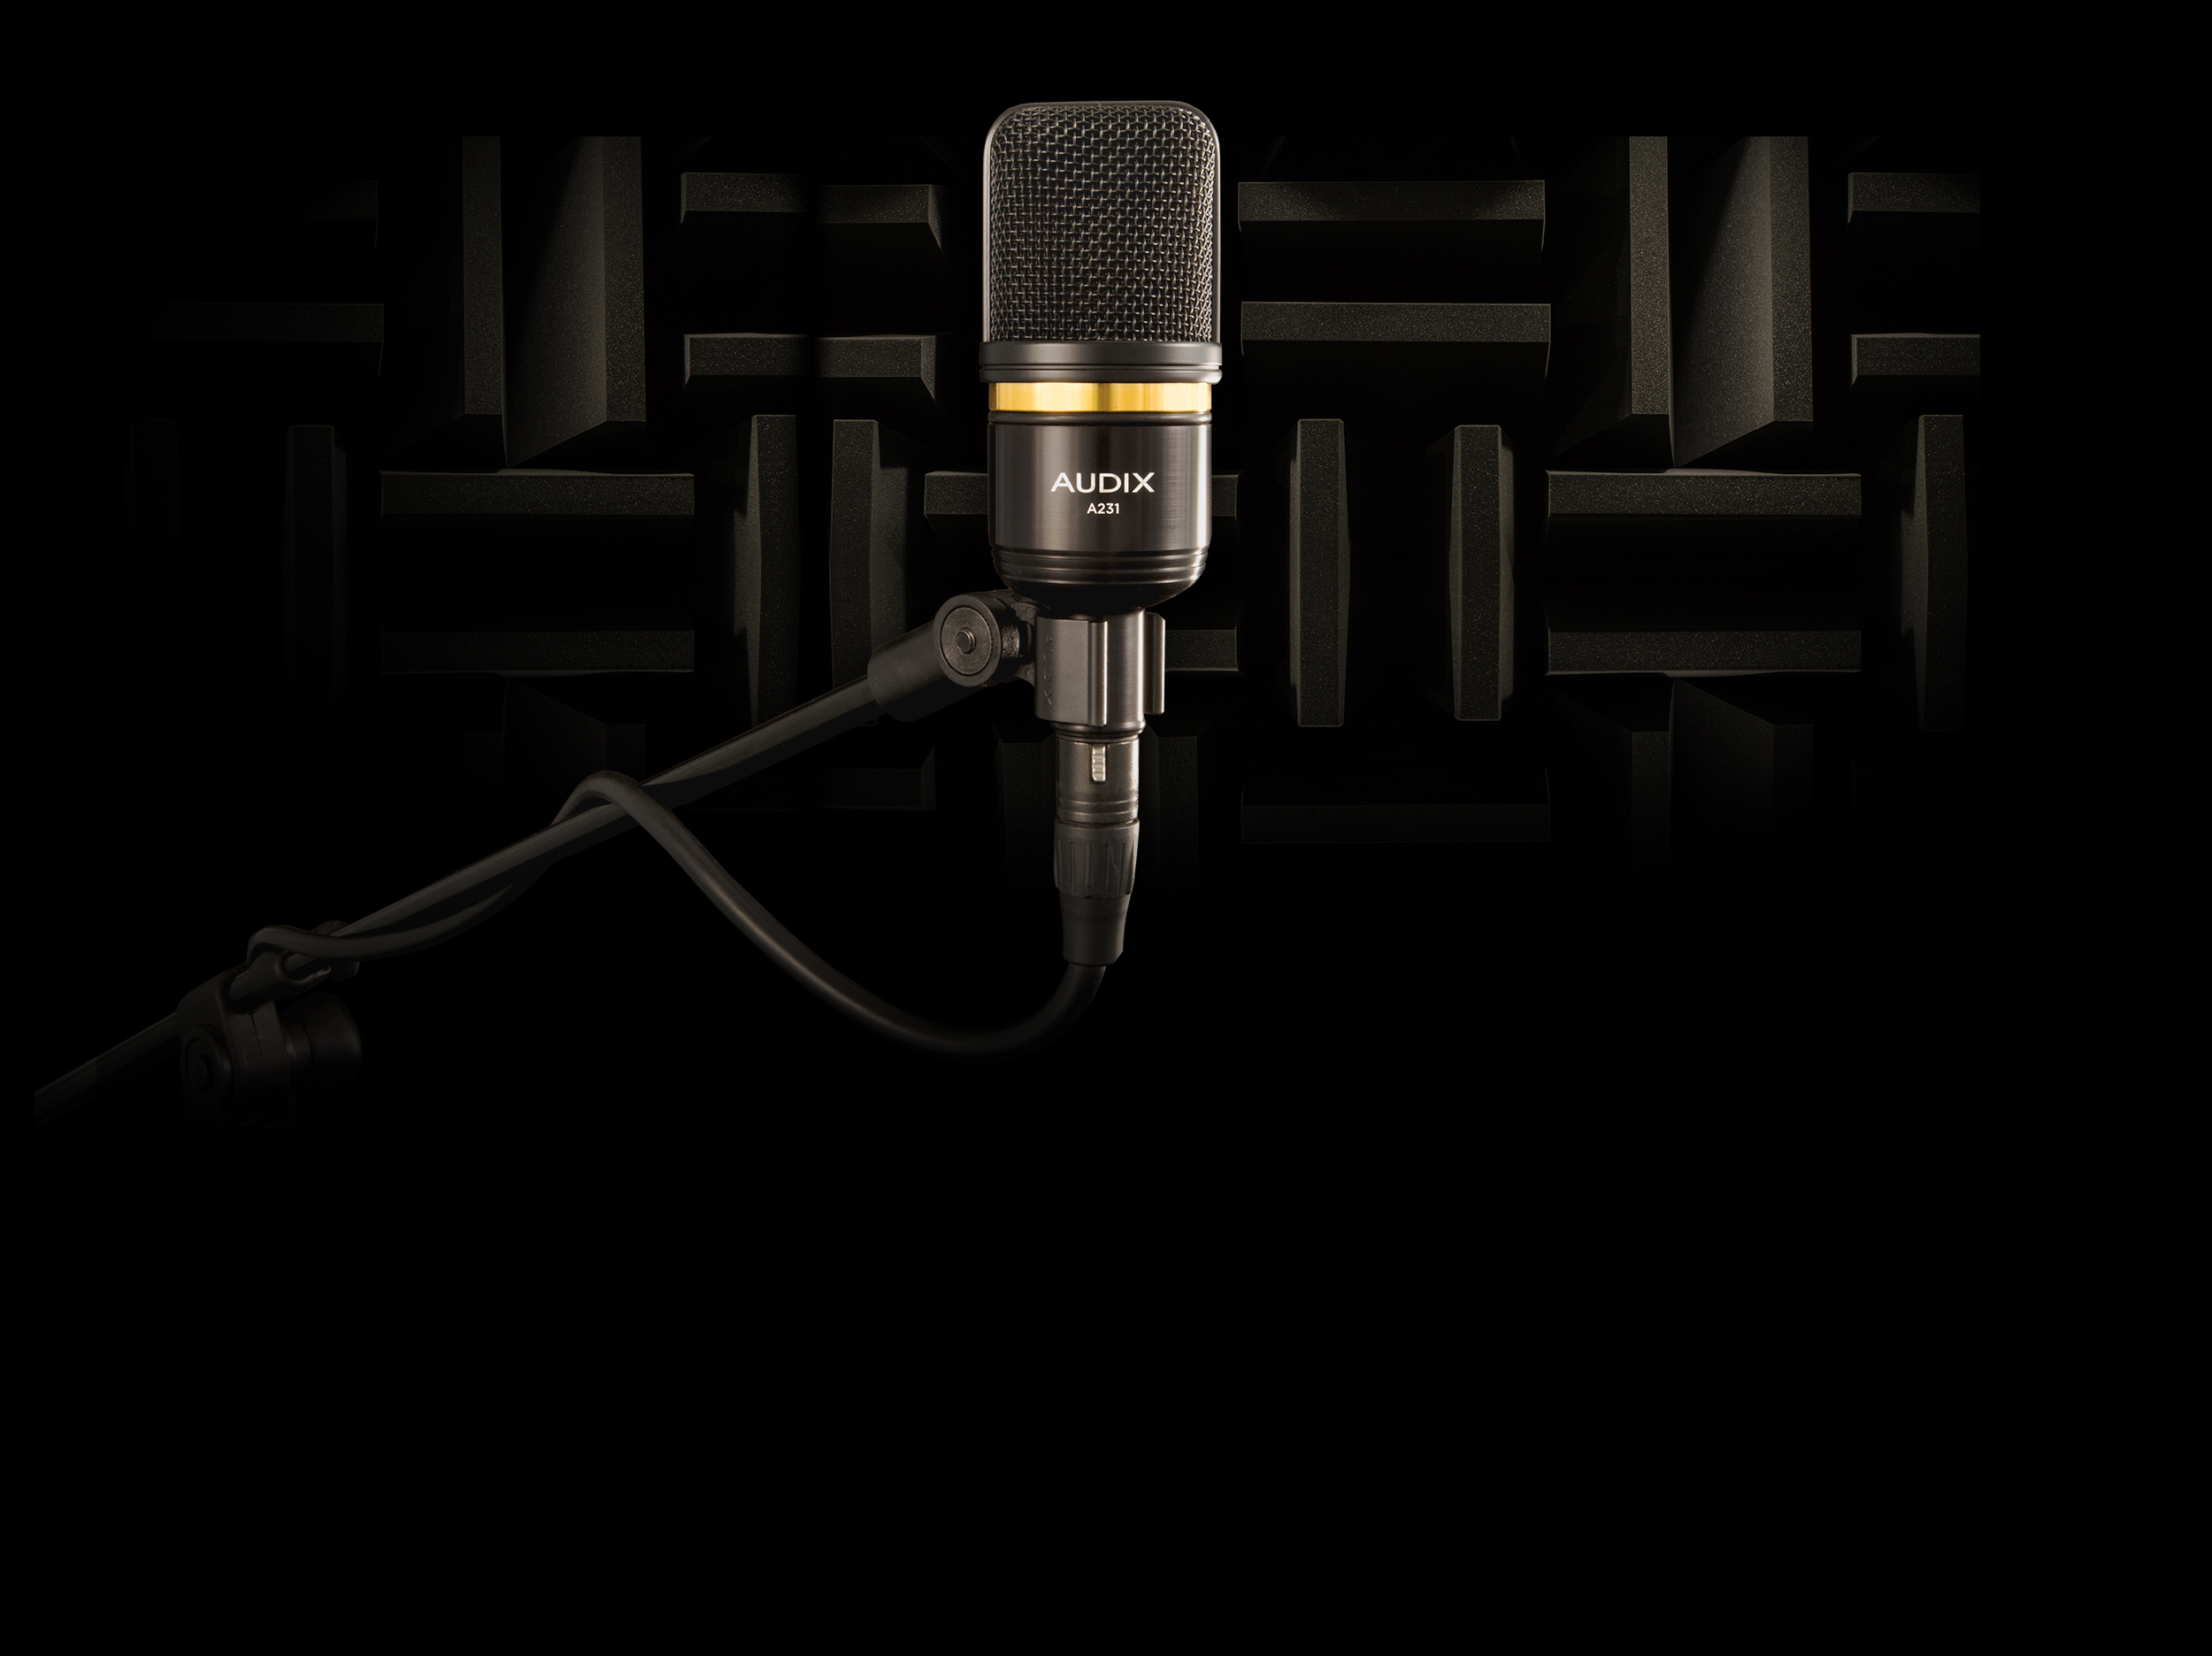microphone: (913, 99, 1236, 1087)
